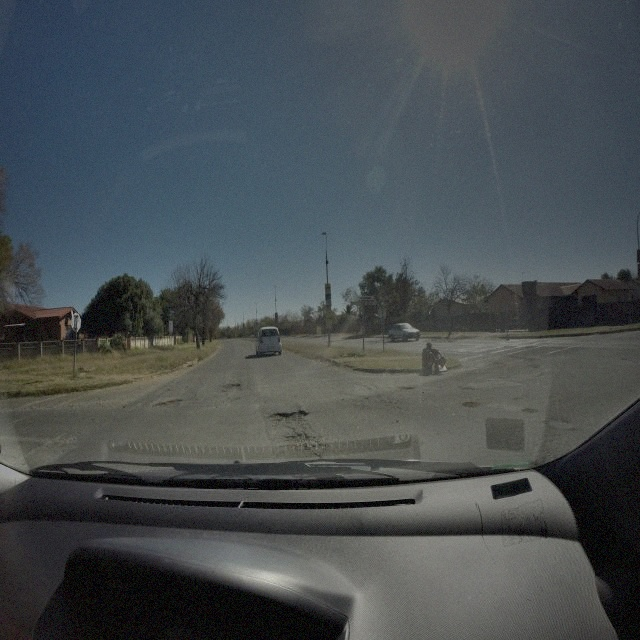pothole: (289, 430, 318, 453), (150, 396, 183, 411), (268, 410, 308, 420), (222, 382, 242, 392), (462, 400, 481, 409), (398, 384, 415, 392), (521, 407, 538, 414), (512, 396, 523, 402)
